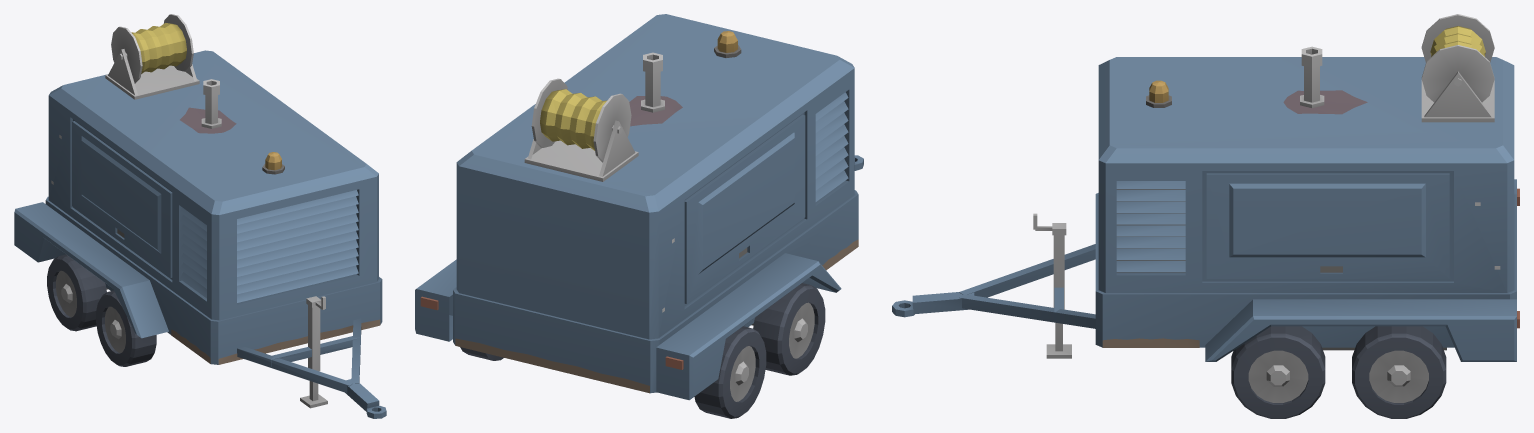
File: gpu.glb
3 renders of one model, left to right at view 1: azimuth 30°, elevation 25°; view 2: azimuth 150°, elevation 25°; view 3: azimuth 270°, elevation 25°, orthographic. The views are drawn at different scales.
Parts seen in each view (by area): view 1: gpu; view 2: gpu; view 3: gpu.
Part boxes in pixels (<box>): gpu: <box>14,14,386,418</box>; gpu: <box>415,14,863,418</box>; gpu: <box>892,14,1519,418</box>.
Bounding box in the file's own units: 2.34 × 2.54 × 4.47.
